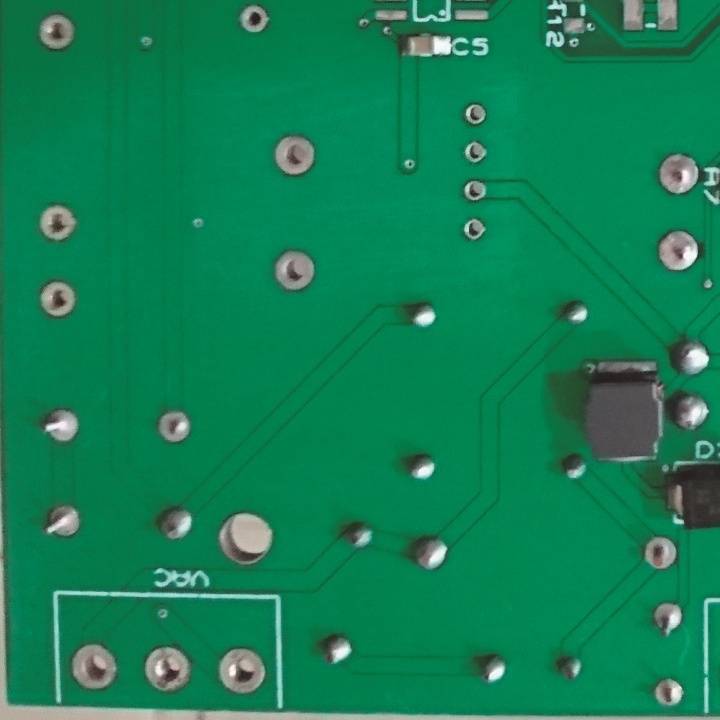F: (216, 646, 270, 700), (141, 643, 195, 695), (68, 643, 122, 692), (270, 132, 322, 180), (270, 244, 318, 296), (655, 229, 703, 276), (654, 151, 701, 195), (639, 534, 683, 577), (36, 280, 81, 322), (35, 12, 79, 52), (36, 203, 79, 243), (40, 504, 85, 542), (39, 408, 83, 445), (153, 410, 196, 446), (650, 600, 684, 643), (651, 675, 690, 711), (235, 3, 272, 35), (462, 101, 490, 128), (461, 140, 491, 165), (463, 215, 488, 245), (461, 179, 490, 201)
